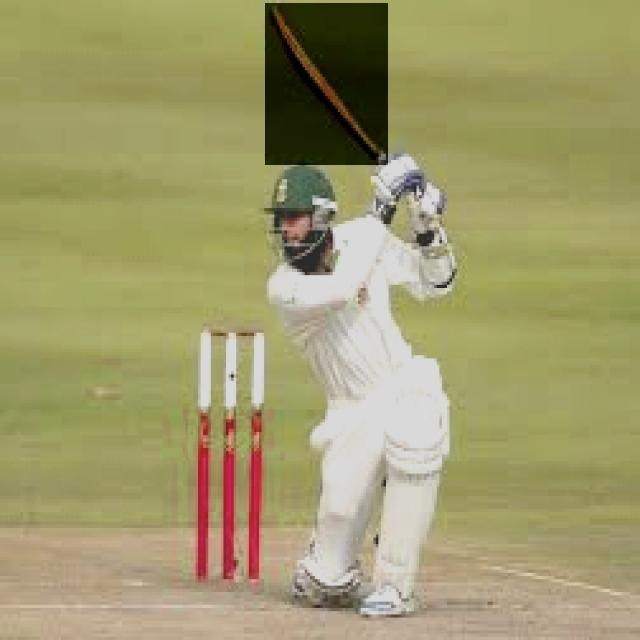bat: (268, 3, 390, 164)
